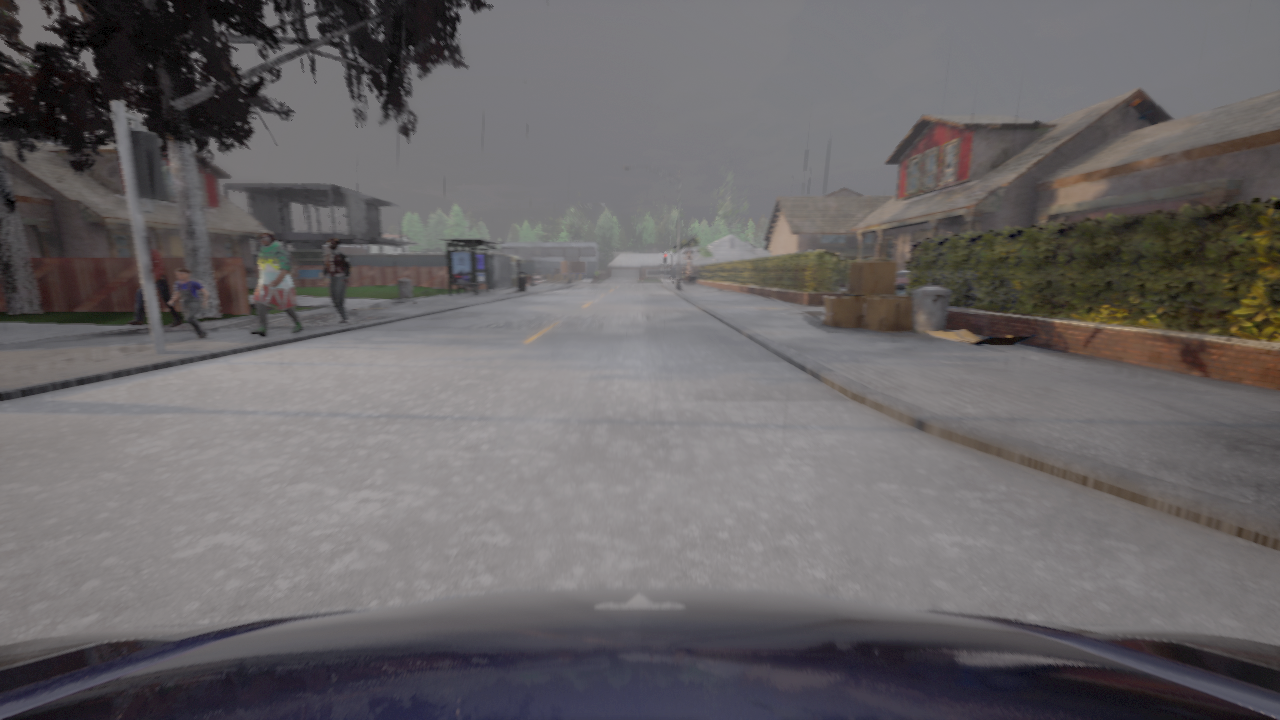cyclist: (0, 588, 1279, 719), (843, 270, 909, 302)
pedestrian: (250, 232, 303, 336), (126, 236, 183, 327), (169, 268, 207, 340), (321, 238, 351, 323)
